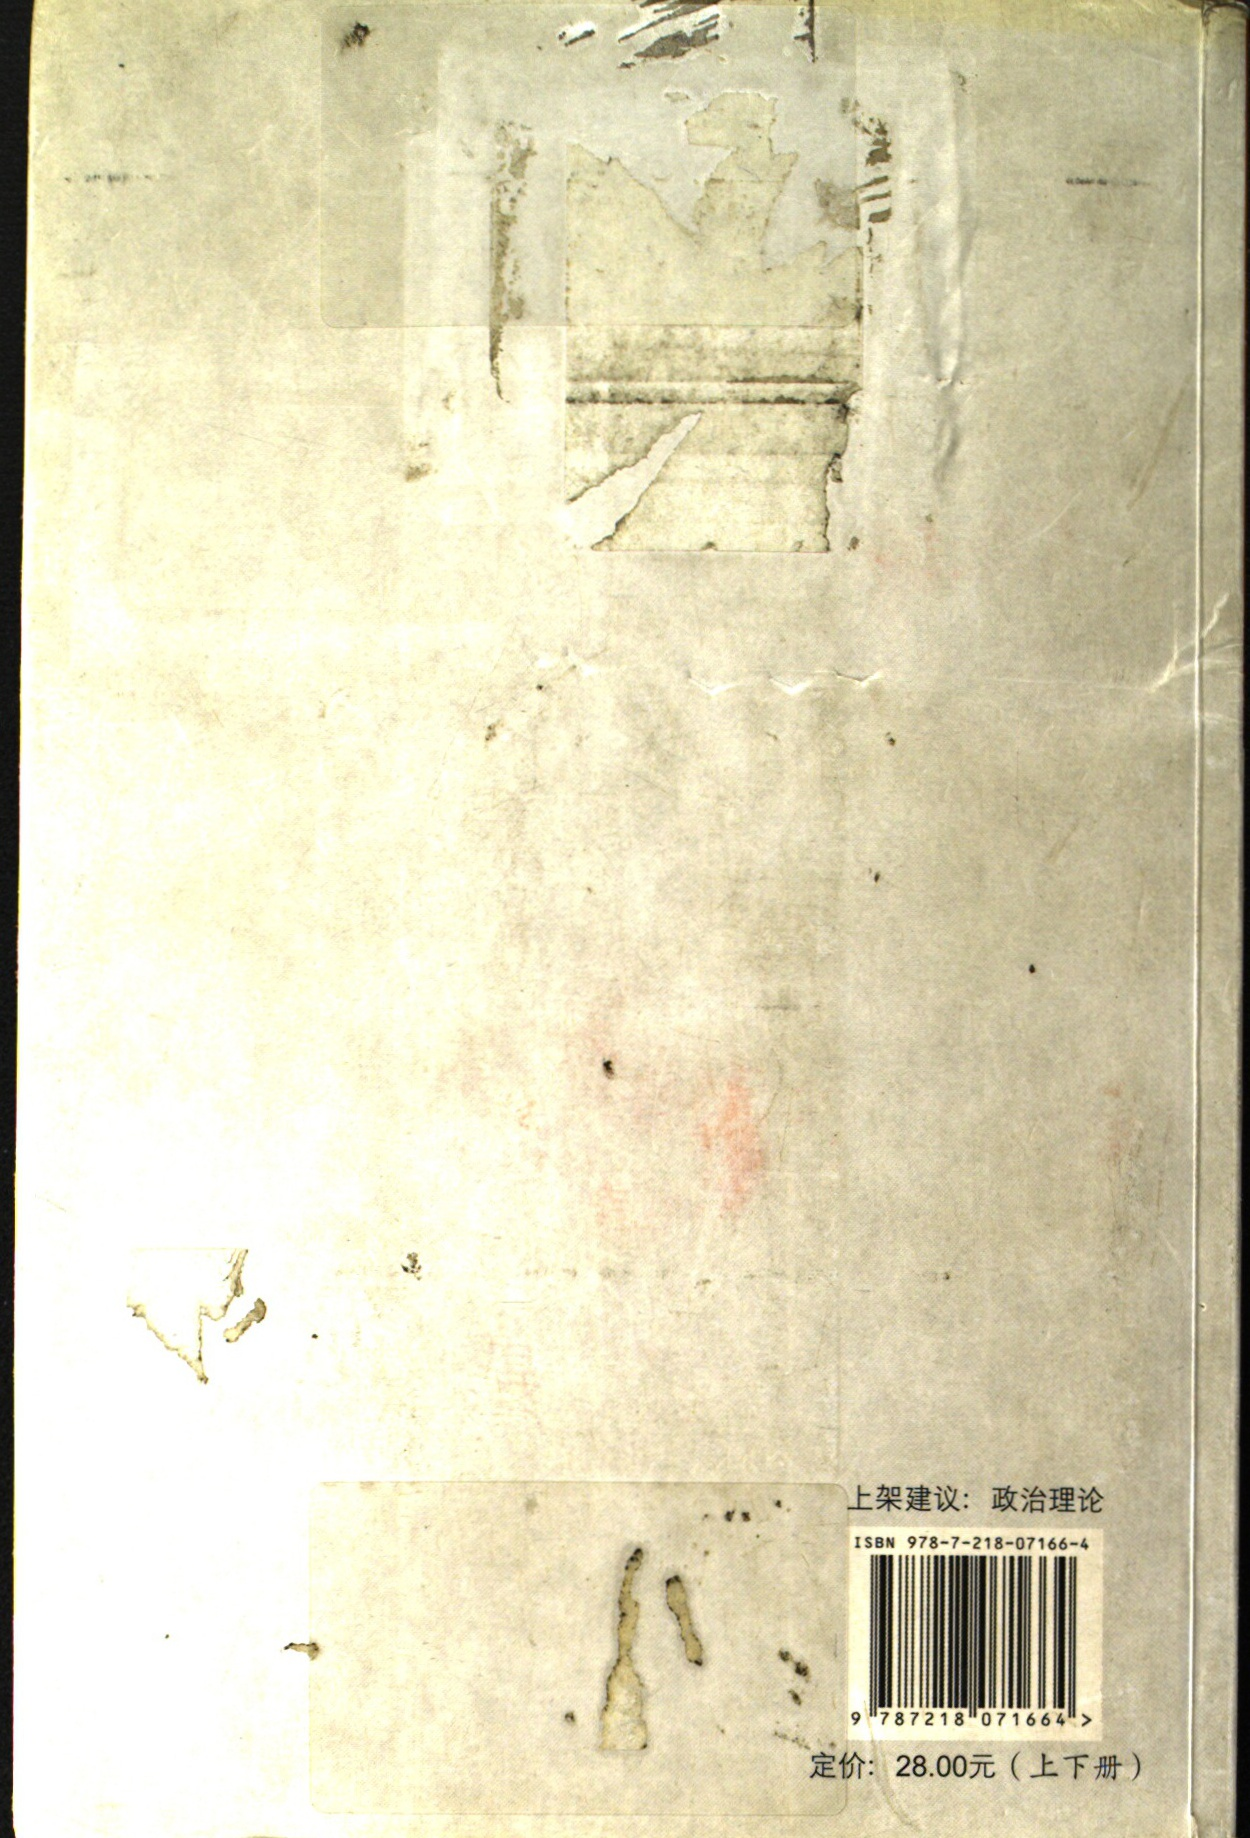barcode: (841, 1520, 1117, 1731)
